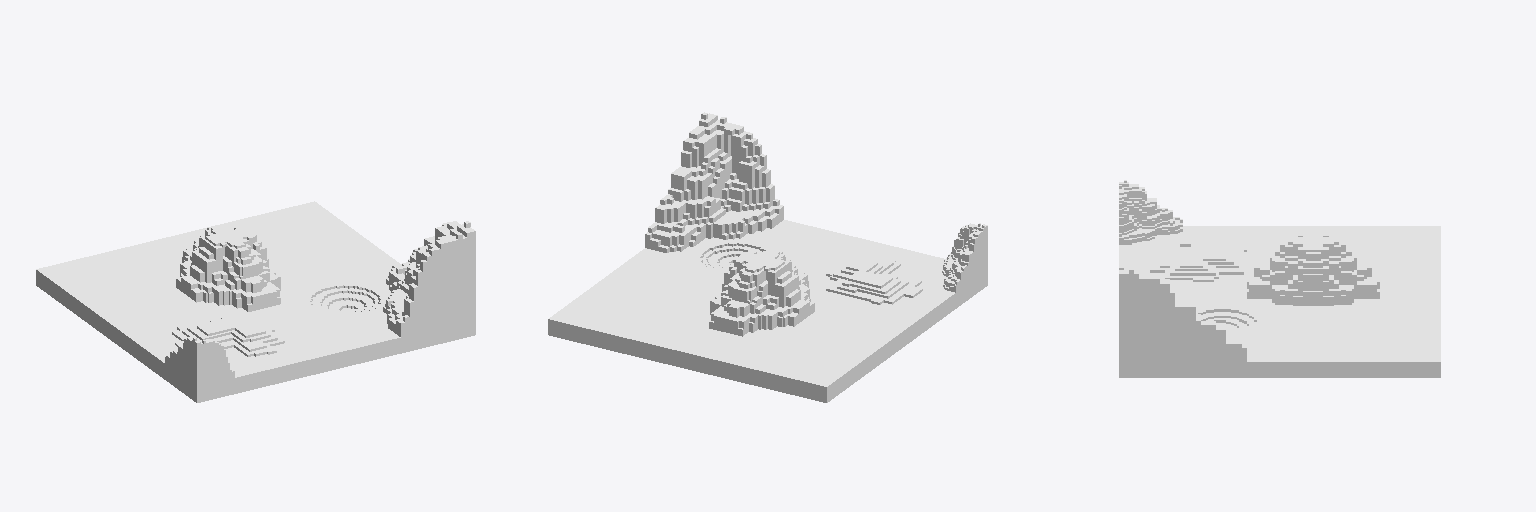
Rendered from gorkamap.obj.
The picture shows the model from 3 angles: view 1: azimuth 30°, elevation 25°; view 2: azimuth 150°, elevation 25°; view 3: azimuth 270°, elevation 25°; orthographic projection.
Visible parts, largest first — view 1: object 1; view 2: object 1; view 3: object 1.
Part boxes in pixels (bbox=[...]): object 1: bbox=[36, 201, 475, 402]; object 1: bbox=[548, 112, 987, 402]; object 1: bbox=[1119, 180, 1440, 377].
Bounding box in the file's own units: 12.6 × 4.7 × 12.6.